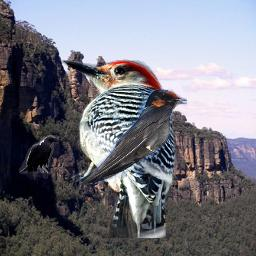Crow: (19, 135, 59, 181)
Swallow: (79, 89, 187, 184)
Woodpecker: (55, 50, 182, 238)
